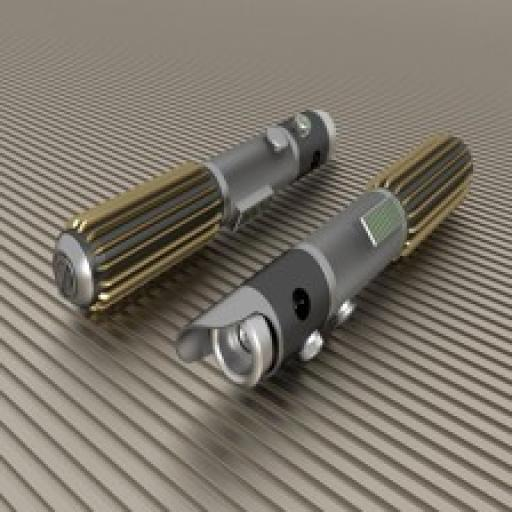lightsaber: (175, 134, 472, 391), (54, 109, 337, 320)
